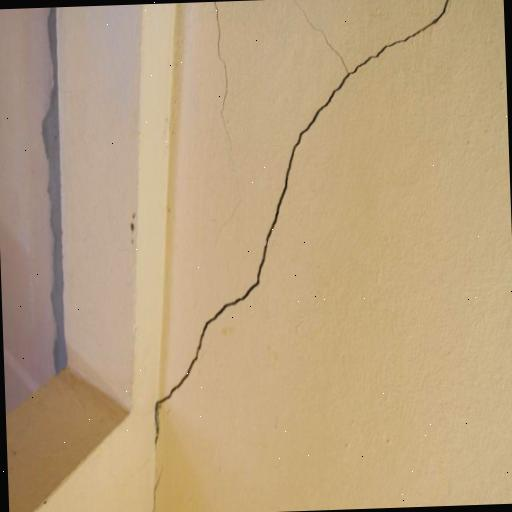spalling: (147, 0, 457, 442)
